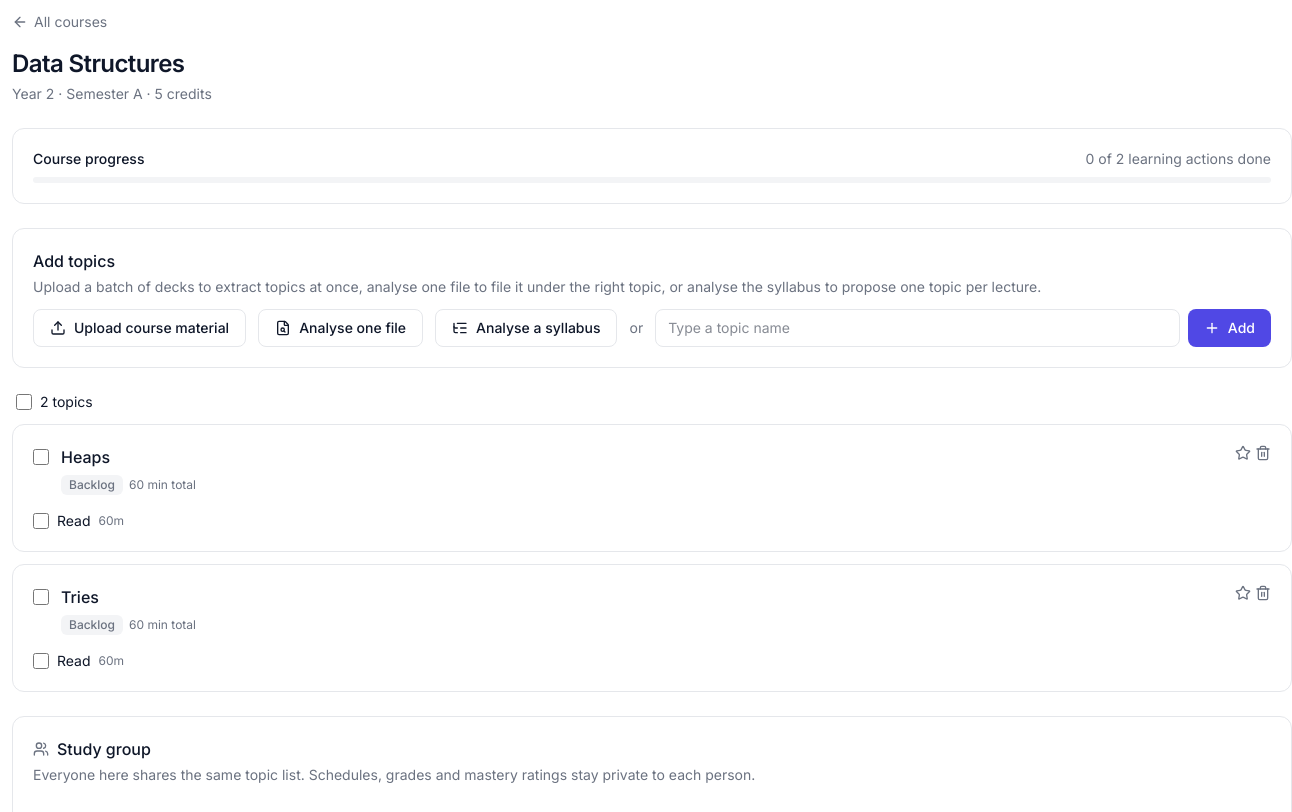
CourseDetailPage › select all covers every topic and can be cleared
The width and height of the screenshot is (1292, 812).
Click the checkbox named "Select all topics": x=24, y=402 [16, 394, 32, 410]
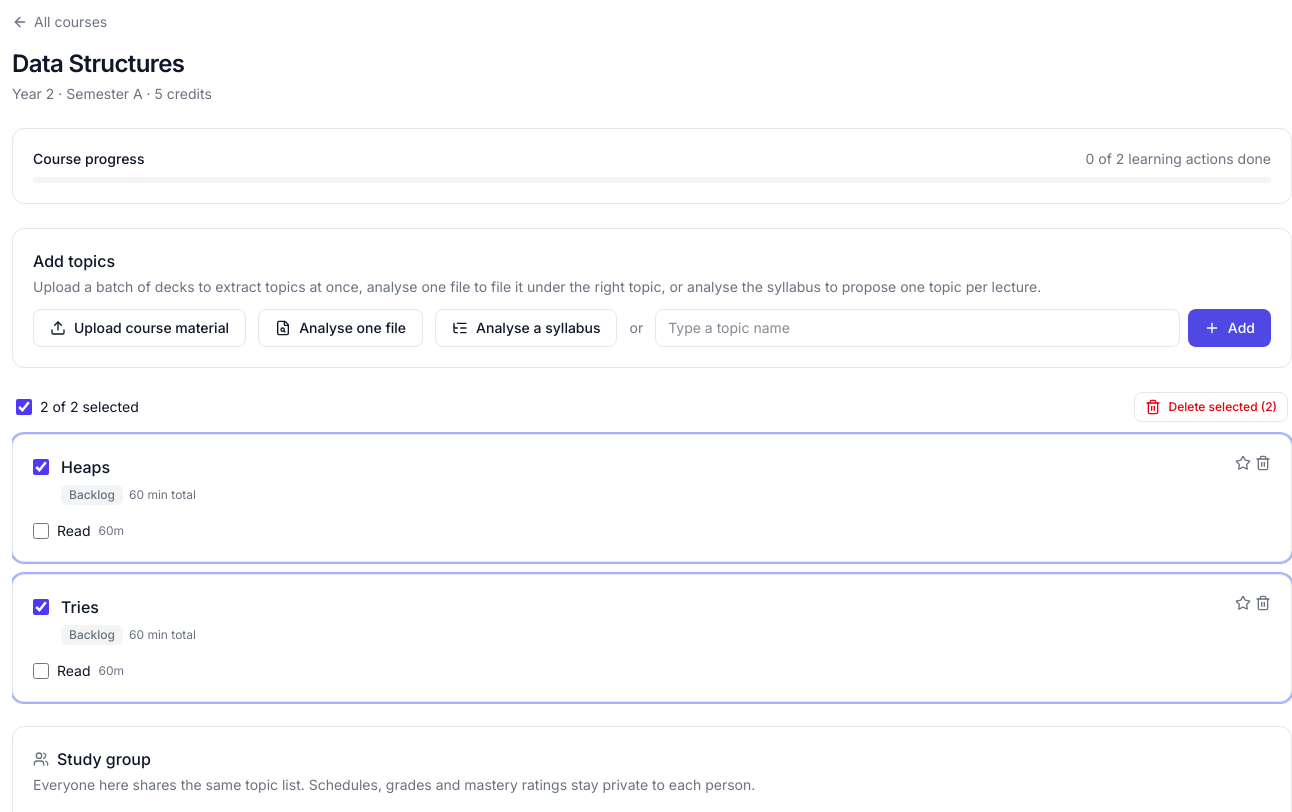
Result: the text "2 of 2 selected" is shown at [16, 397, 139, 417]
Result: the checkbox named "Select Tries" is checked at [33, 599, 49, 615]
Click the checkbox named "Select all topics": x=24, y=407 [16, 399, 32, 415]
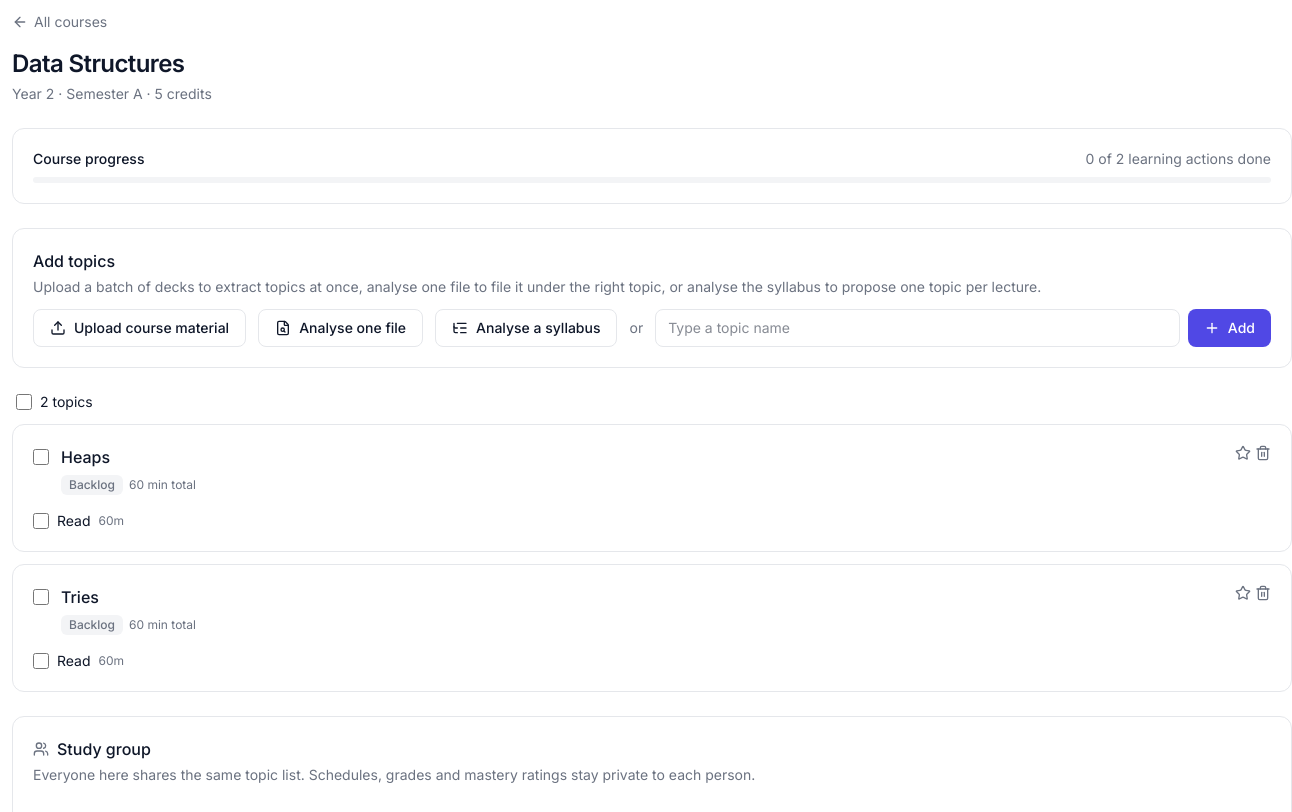
Result: the button "Delete selected" is gone
